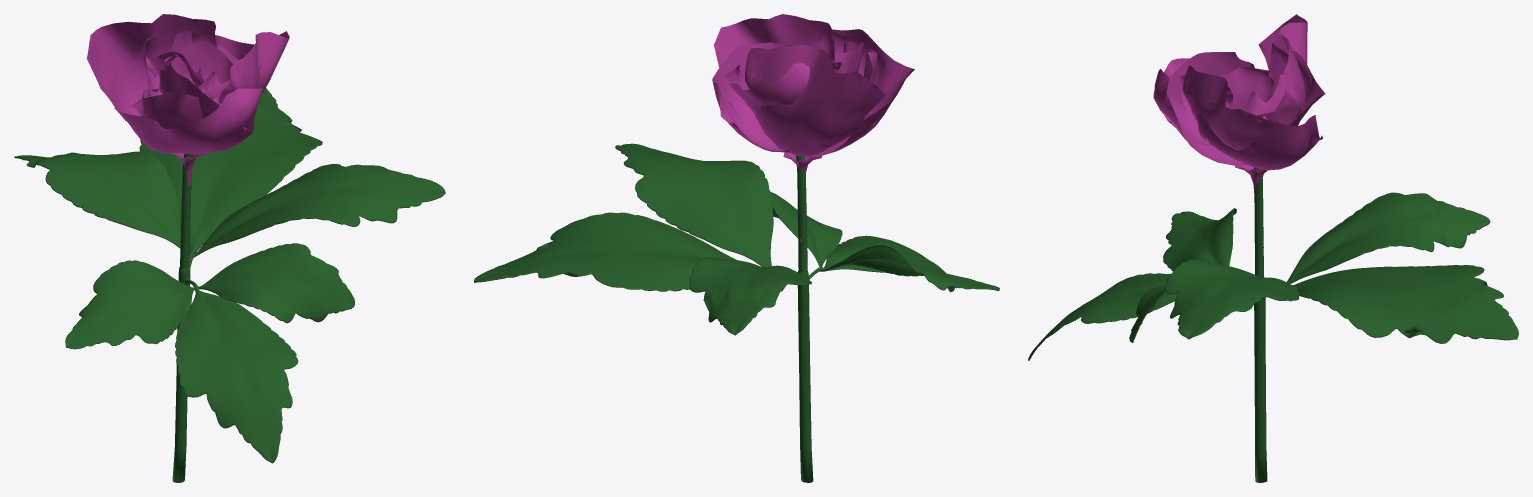
Rendered from peonybpinkcp.glb.
3 renders of one model, left to right at view 1: azimuth 30°, elevation 25°; view 2: azimuth 150°, elevation 25°; view 3: azimuth 270°, elevation 25°, orthographic. The views are drawn at different scales.
Parts seen in each view (by area): view 1: maki.001; view 2: maki.001; view 3: maki.001.
Boxes of the visible parts, x1,y1,x2,y2 form: maki.001: (14, 14, 445, 482); maki.001: (474, 14, 999, 482); maki.001: (1028, 14, 1518, 482).
Bounding box in the file's own units: 2.99 × 3.4 × 3.42.
